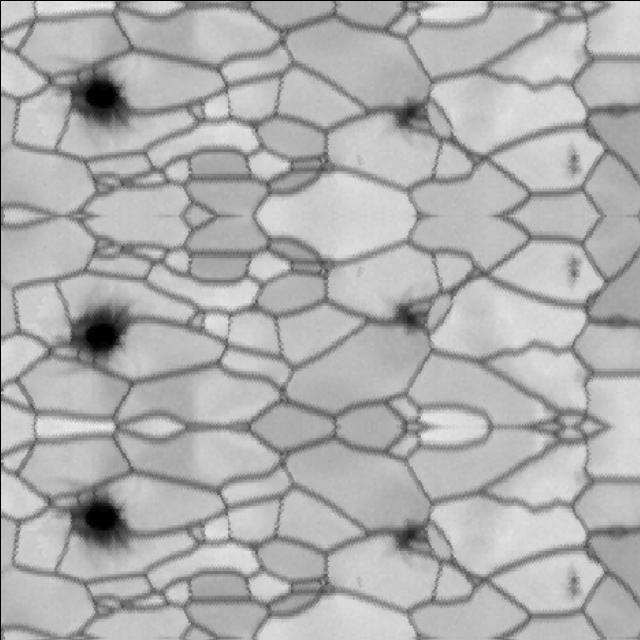good_void: (57, 279, 139, 367), (57, 61, 139, 149), (57, 485, 139, 573), (382, 284, 431, 332), (382, 96, 431, 144), (382, 520, 431, 568), (565, 249, 587, 287), (565, 141, 587, 179), (565, 565, 587, 603), (352, 263, 365, 277), (352, 151, 365, 165), (352, 575, 365, 589)
